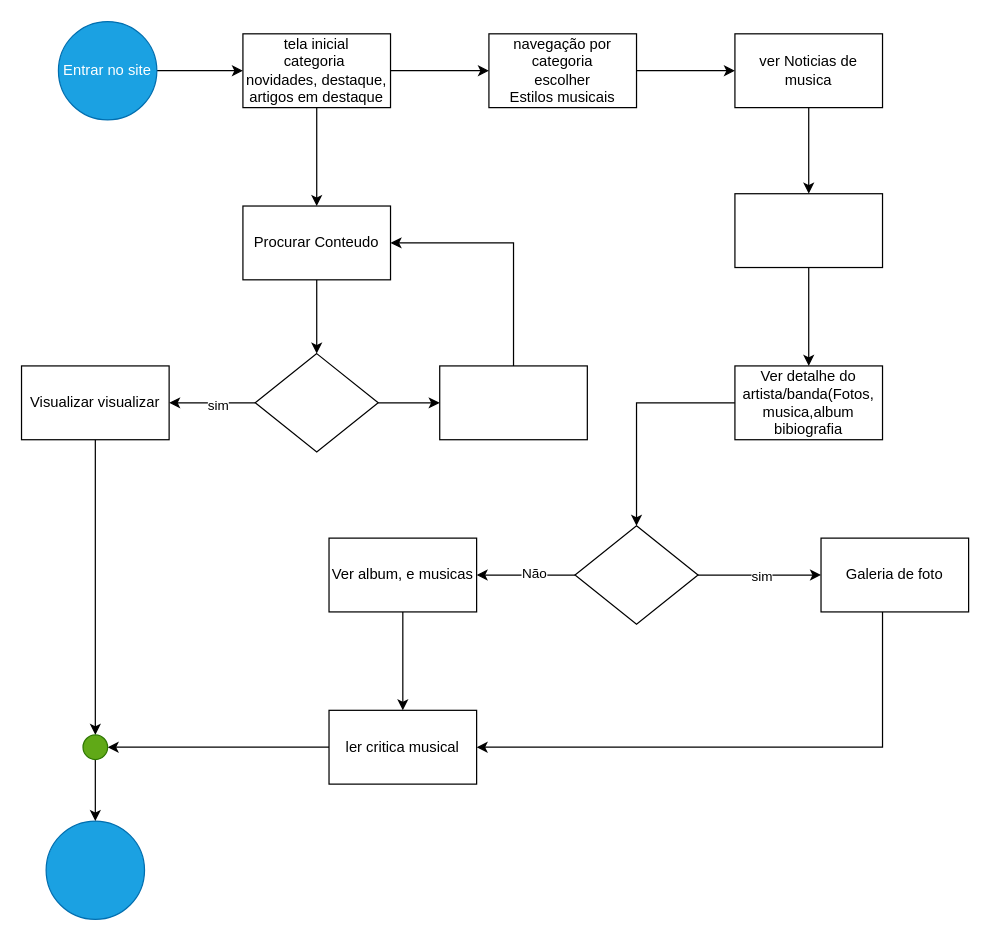
Some shapes in this 990 by 941 pixel diagram are drawn without their labels. Here are the shapes that lost their labels. From the top down, the centre of each, then its label:
At [808,230]: "Selecionar artista/banda".
At [316,402]: "Encontrou?".
At [512,402]: "ver outras categorias".
At [636,574]: "ver fotos".
At [95,869]: "Fim".
